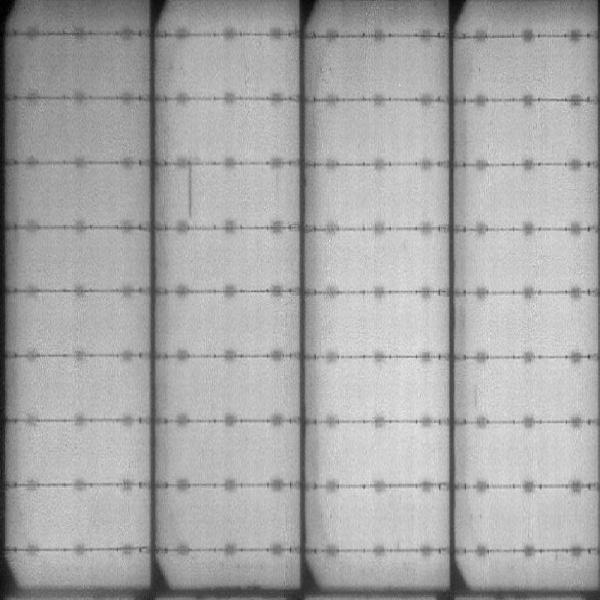scratch: (185, 164, 196, 222)
